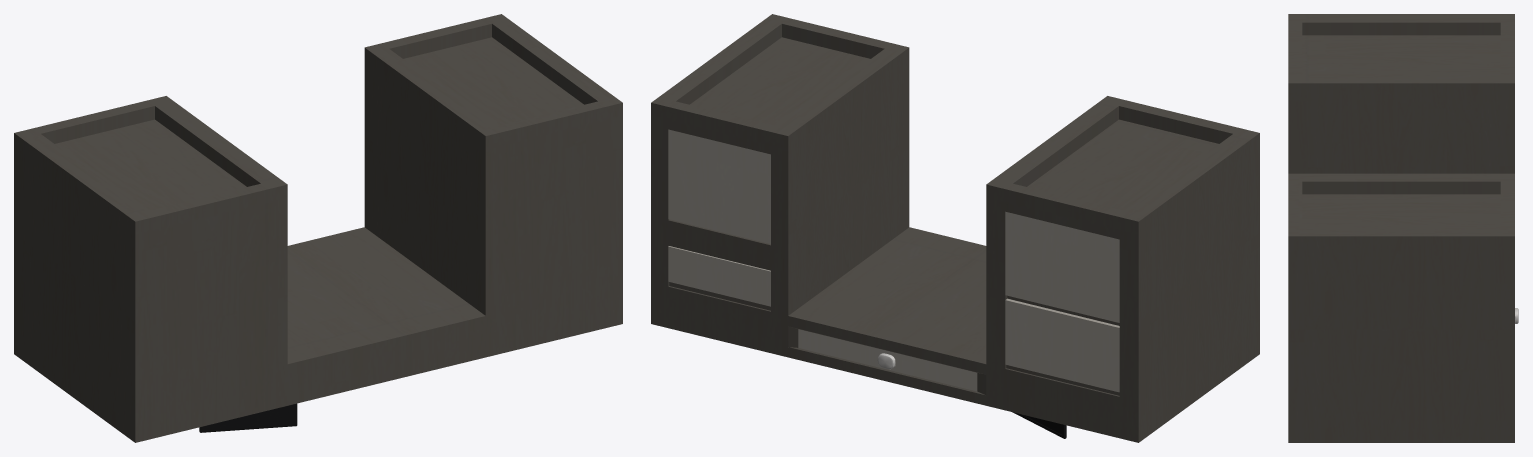
The model's file is Menu_Scene.fbx.
3 views of the same model, side by side, from view 1: azimuth 30°, elevation 25°; view 2: azimuth 150°, elevation 25°; view 3: azimuth 270°, elevation 25° (orthographic). The views are drawn at different scales.
Visible parts, largest first — view 1: polySurface3, polySurface1; view 2: polySurface3, polySurface1; view 3: polySurface3.
Part boxes in pixels (x1,y1,x2,y2): polySurface3: [14, 14, 622, 442]; polySurface1: [199, 403, 297, 432]; polySurface3: [651, 14, 1259, 442]; polySurface1: [798, 329, 977, 391]; polySurface3: [1288, 14, 1514, 442].
Size of the model in its own units: 8.46 by 4.81 by 3.71.
